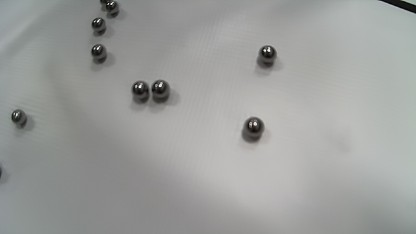ironball: (242, 117, 264, 141), (151, 79, 170, 102), (131, 80, 149, 102), (258, 45, 277, 63), (91, 43, 107, 62), (11, 109, 27, 128), (91, 17, 106, 33), (106, 0, 119, 15), (100, 0, 109, 6), (0, 165, 1, 179)
